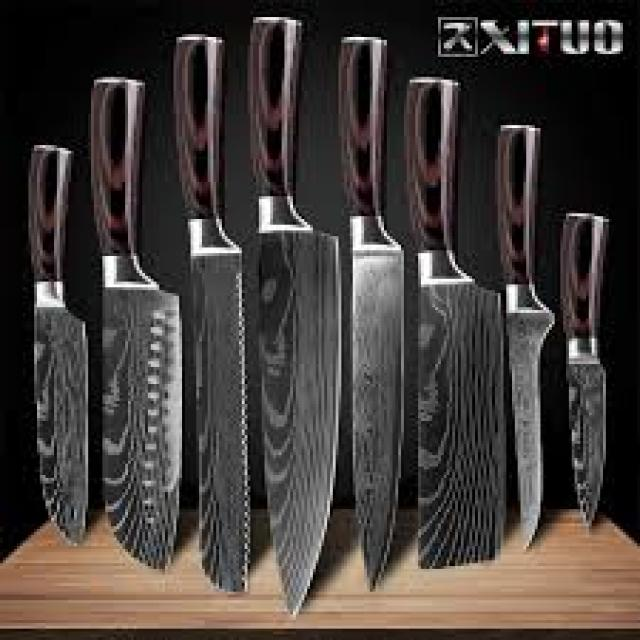Knife: (162, 26, 439, 586)
